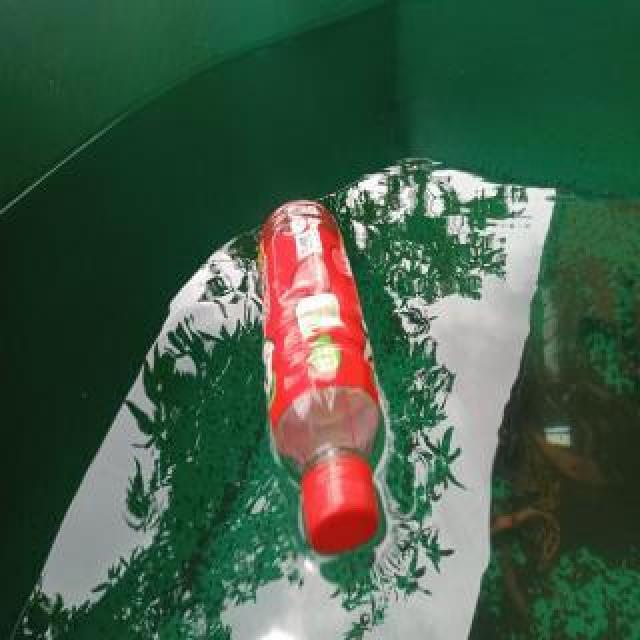bottle: (256, 196, 388, 558)
